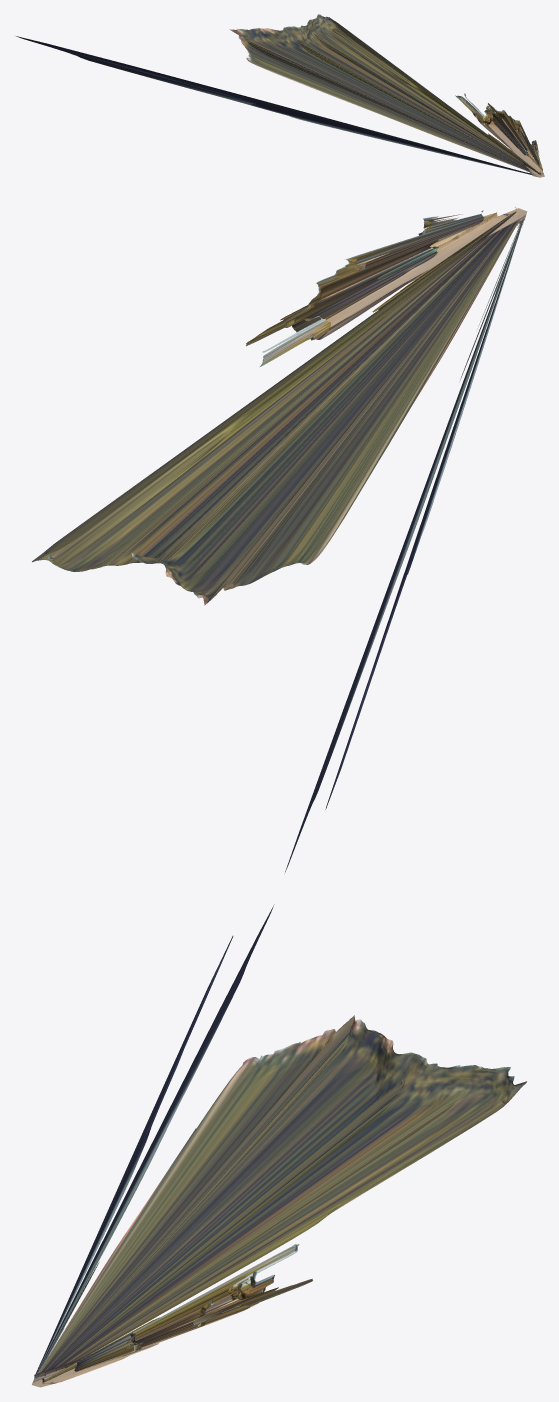
3 views of the same model, one above another, from view 1: azimuth 30°, elevation 25°; view 2: azimuth 150°, elevation 25°; view 3: azimuth 330°, elevation 25° (orthographic). The views are drawn at different scales.
Parts seen in each view (by area): view 1: world; view 2: world; view 3: world.
Part boxes in pixels (x1,y1,x2,y2): world: [16, 14, 544, 177]; world: [32, 207, 527, 872]; world: [32, 904, 526, 1387].
Bounding box in the file's own units: 22.05 × 4.86 × 50.19.
1 material, 1 textured.
